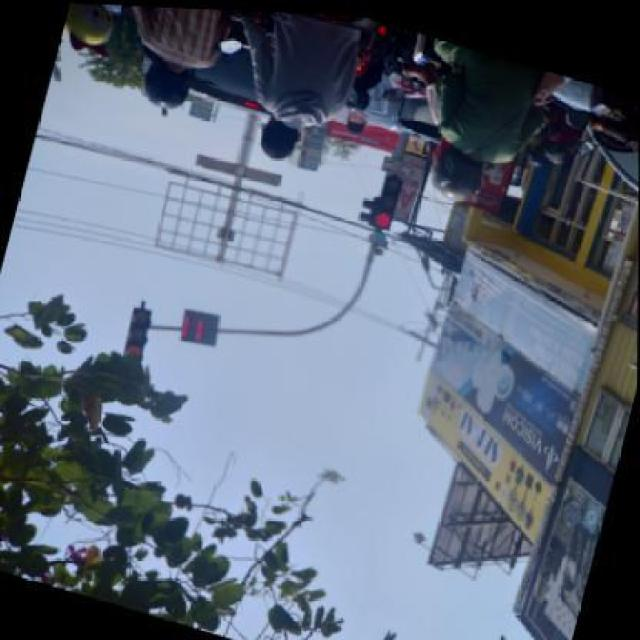Traffic Light -Red-: (118, 304, 154, 370), (372, 172, 405, 232)
